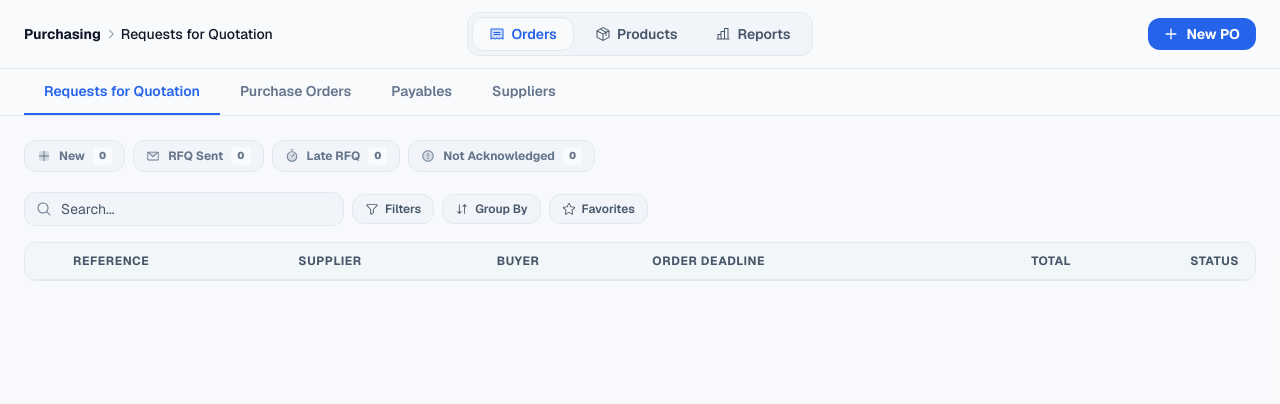
Test: Purchasing products: fitment in the catalogue › list view has a Fits column
What coordinates should you click on to do the following:
click the button "Products"
I would click on:
 (636, 34)
Its box is x1=578 y1=17 x2=694 y2=51.
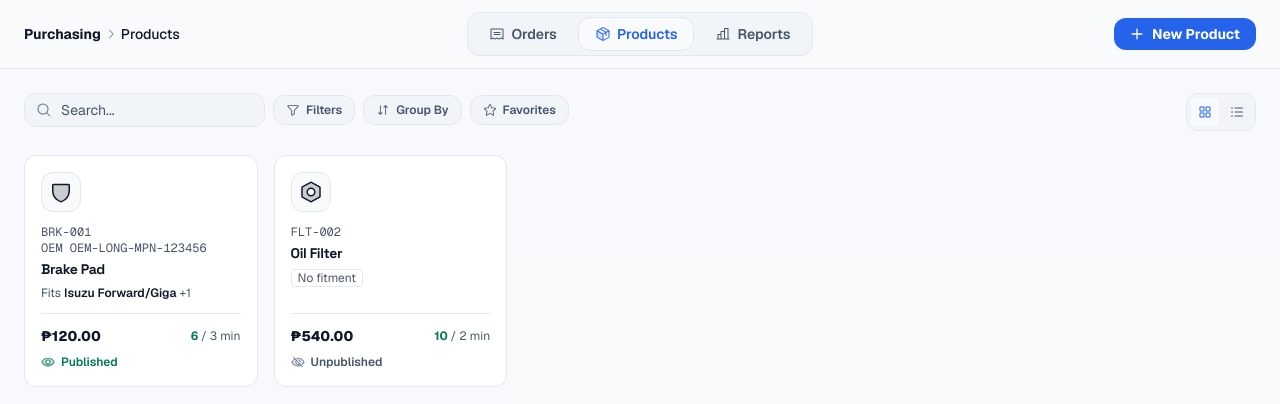
What coordinates should you click on to do the following:
click the button named "List view"
I would click on:
 (1237, 112)
Its box is x1=1223 y1=98 x2=1251 y2=126.
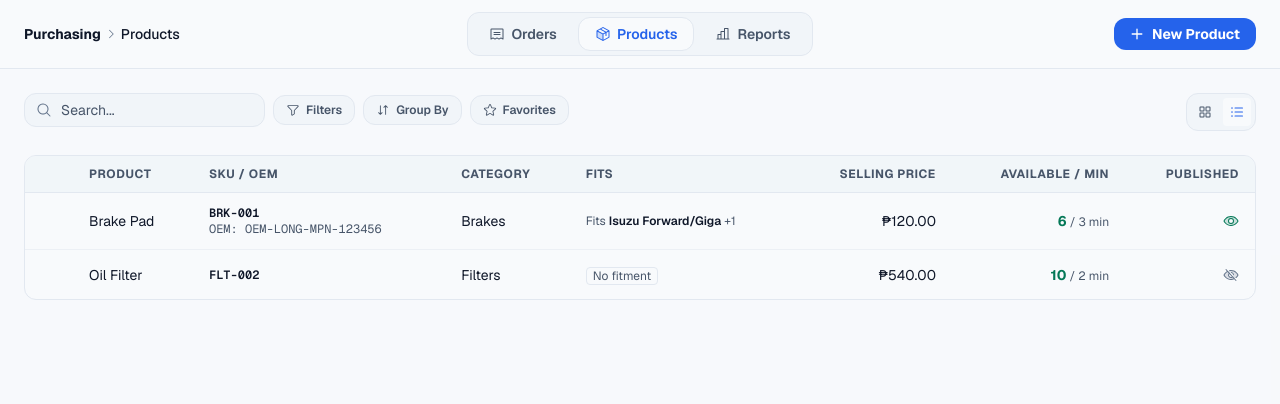
Expected: the text "Fits Isuzu Forward/Giga +1" is shown, x1=586 y1=213 x2=736 y2=229
Expected: the text "No fitment" is shown, x1=586 y1=266 x2=658 y2=284
Expected: the column heading "Fits" is shown, x1=570 y1=156 x2=794 y2=192
